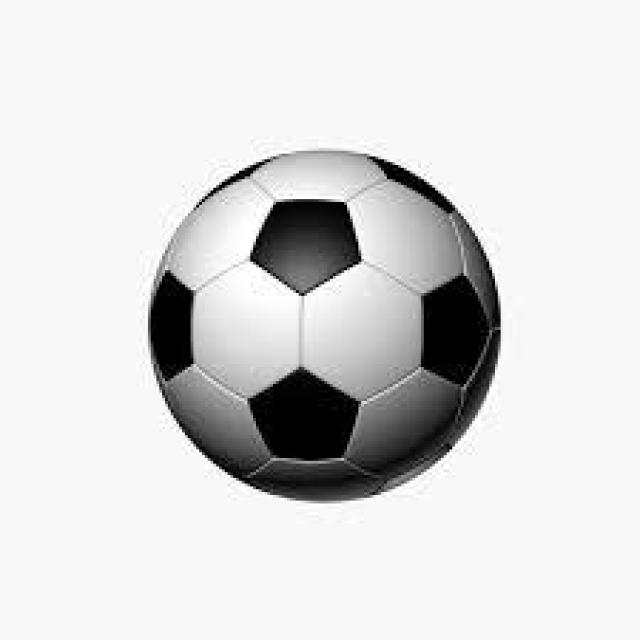Soccer Ball: (151, 142, 503, 503)
